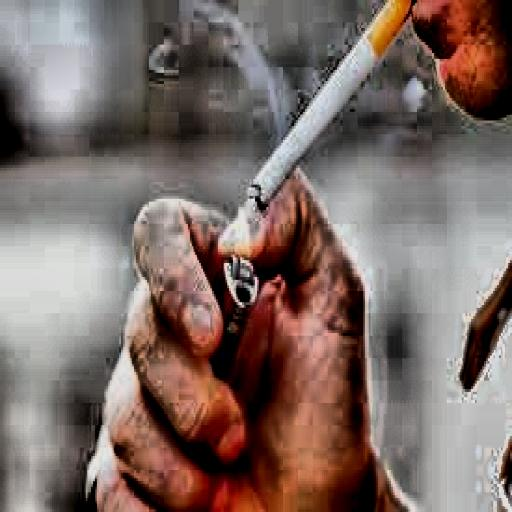fire: (223, 190, 259, 260)
